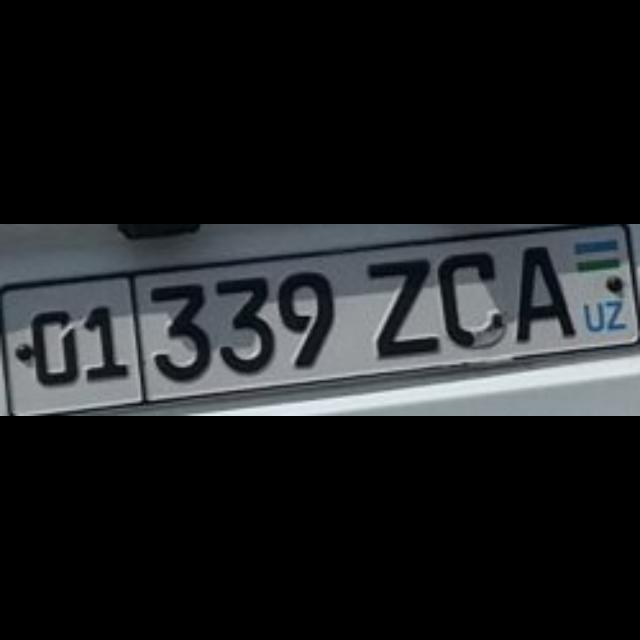0: (28, 308, 74, 386)
1: (82, 304, 126, 381)
3: (146, 280, 208, 380), (212, 276, 272, 372)
9: (276, 270, 330, 368)
A: (512, 244, 574, 340)
C: (434, 250, 502, 344)
Z: (364, 258, 438, 352)
